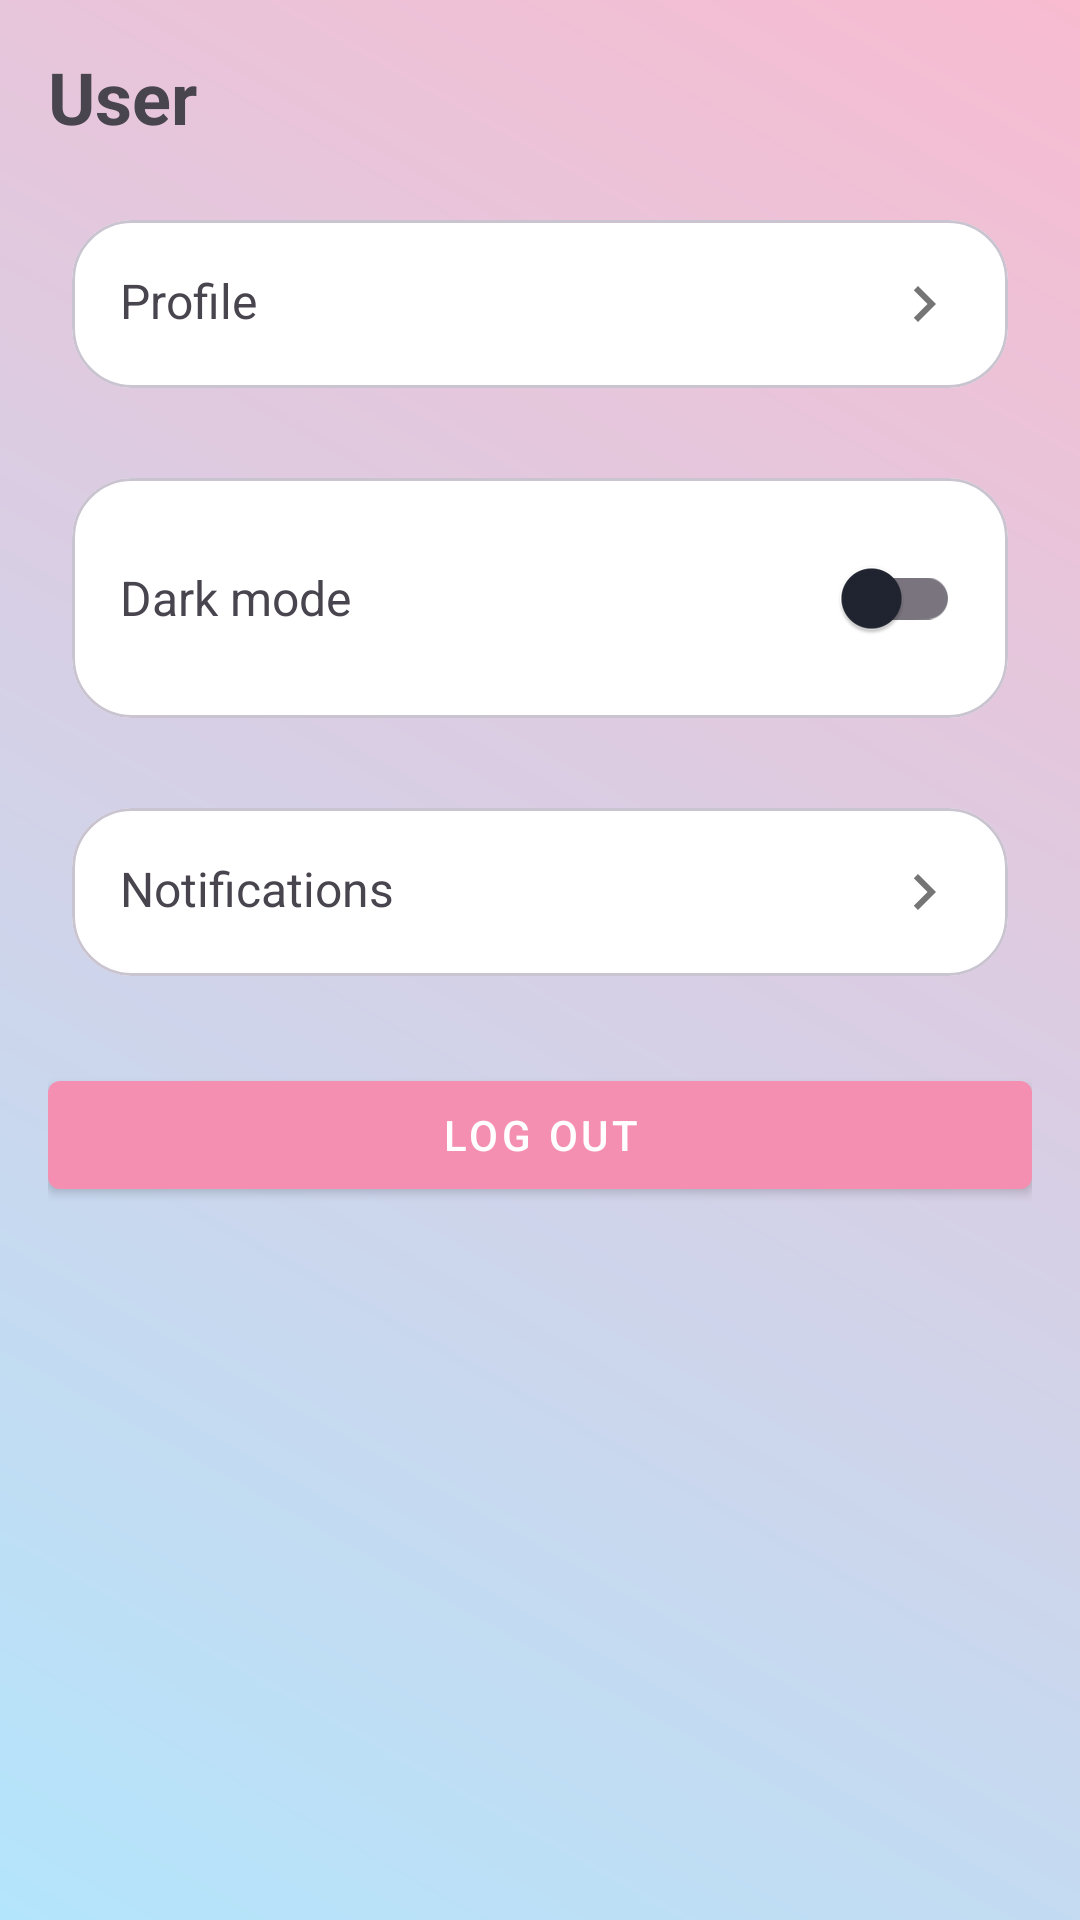

Icon click points for this 1080*1920 phone screenshot, format [x,y]:
chevron right: [925,304], [925,892]
